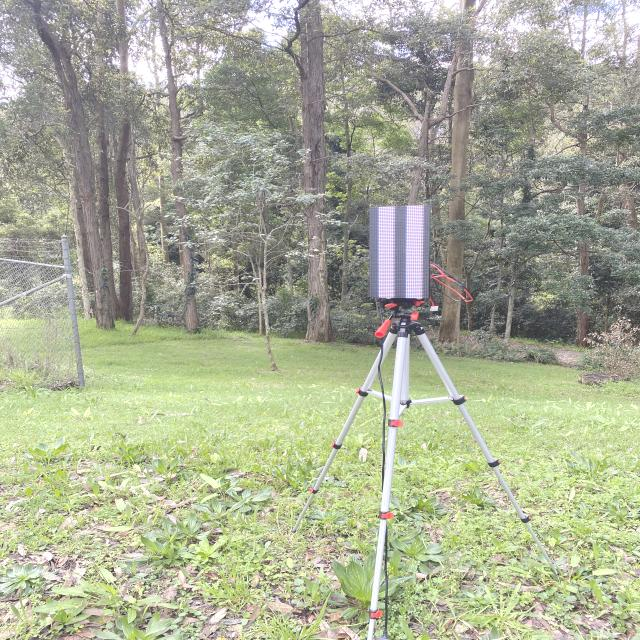matrix: (355, 200, 435, 304)
